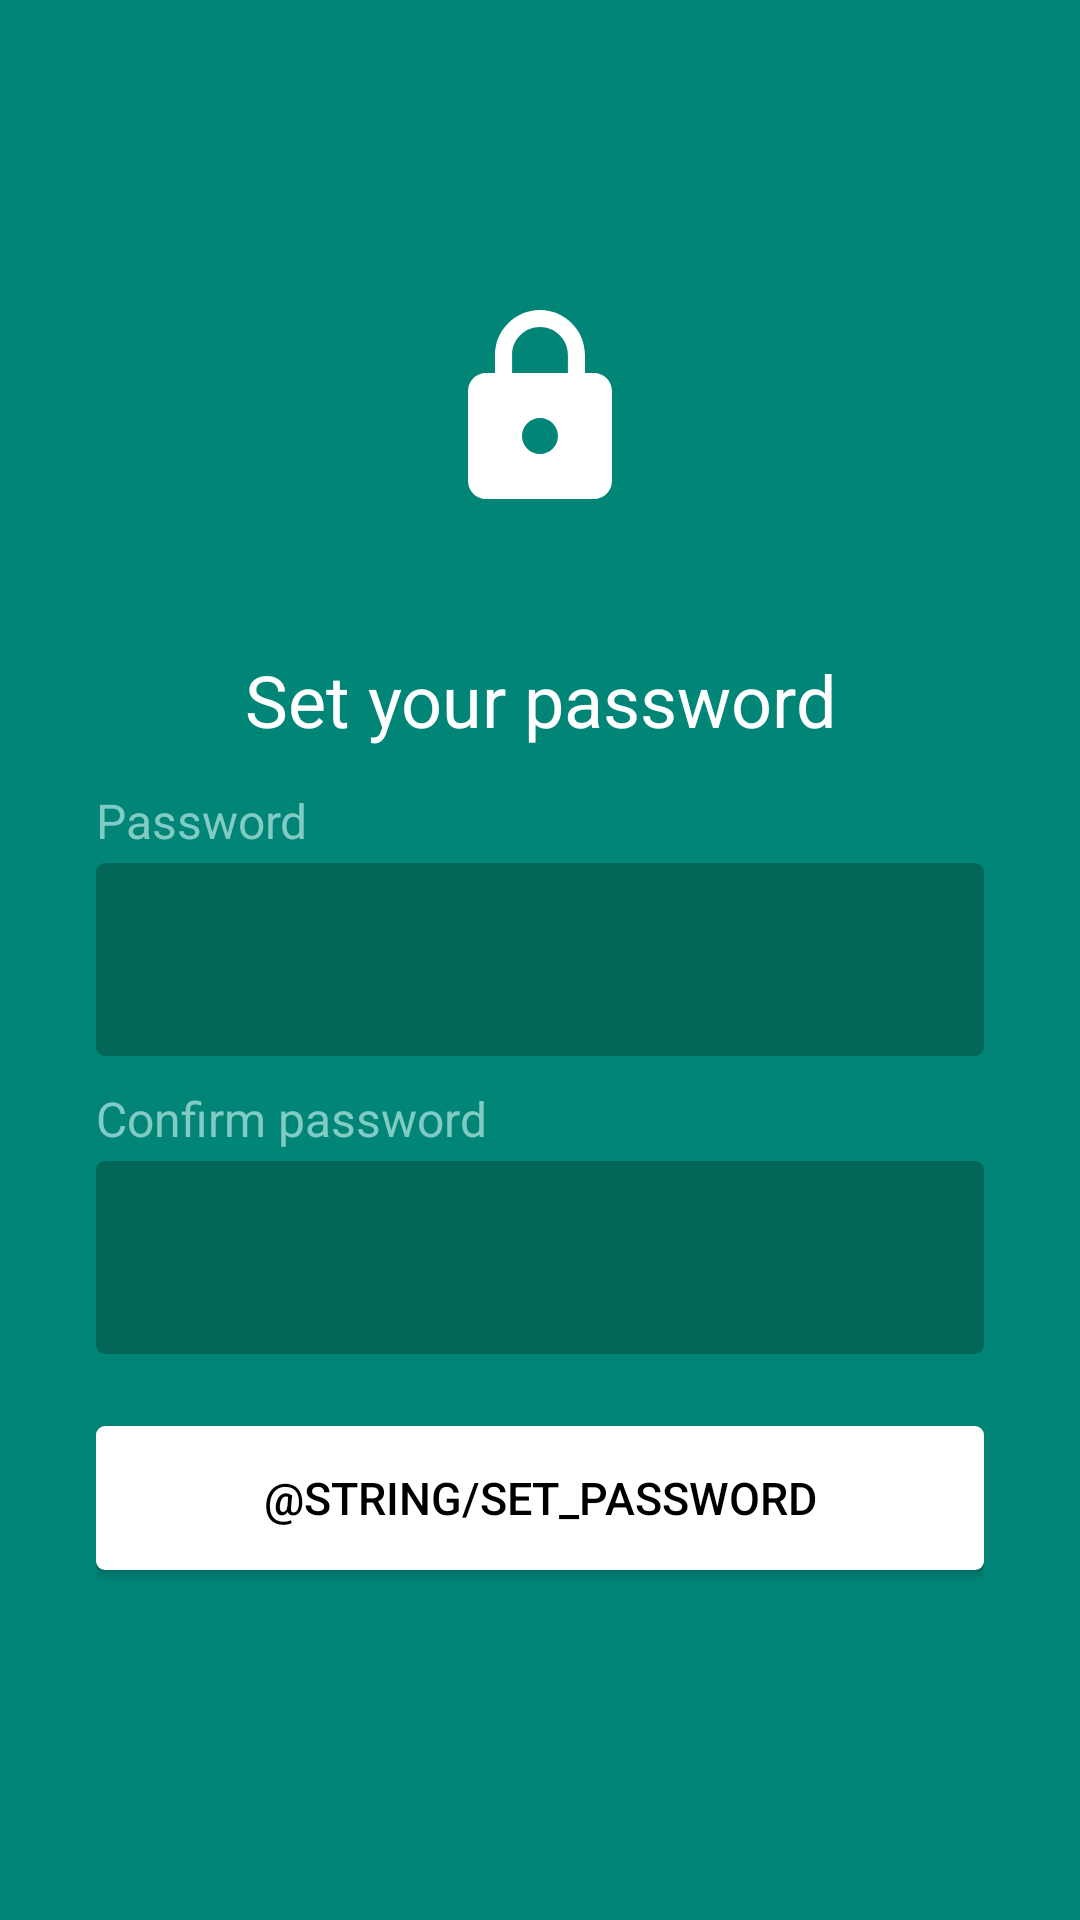

Where icons sit on this 1080 x 1920 app screen, as bbox(x1, y1, x2, y2):
lock: bbox(468, 310, 612, 499)
